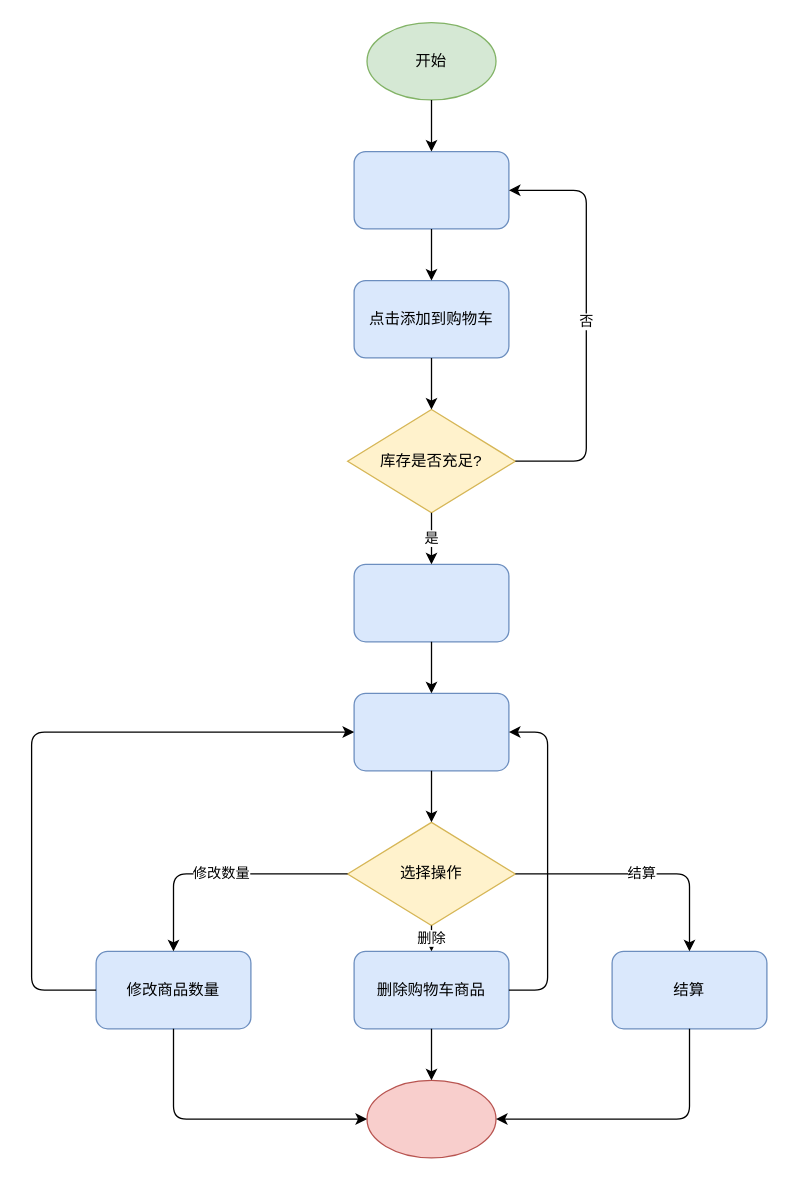
The diagram is 789 pixels wide and 1180 high, and some of its shapes have lost their labels. The centre of each missing label's shape, as x and y in pixels:
商品详情页: point (431, 189)
更新购物车: point (431, 602)
查看购物车: point (431, 731)
结束: point (431, 1118)
